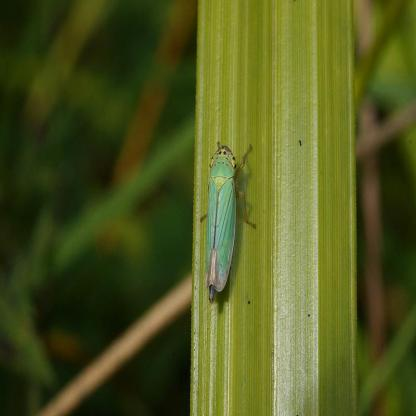Green-Leafhopper: (195, 140, 258, 304)
